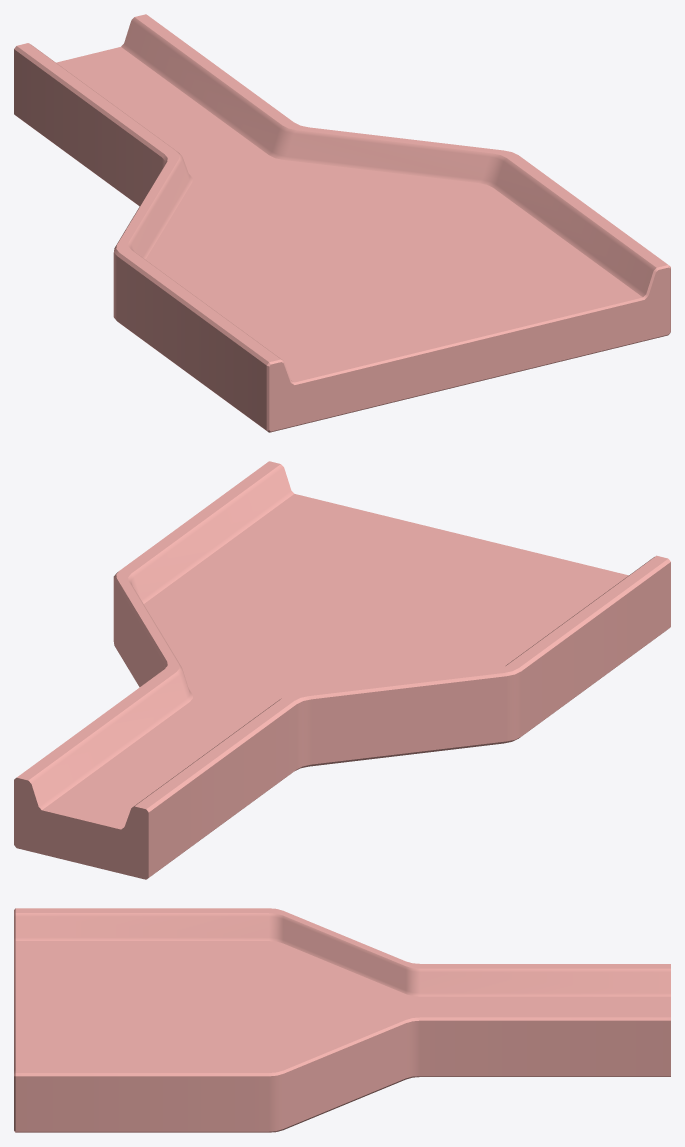
File: Ramp_WideToSmall.fbx
The picture shows the model from 3 angles, top to bottom: view 1: azimuth 30°, elevation 25°; view 2: azimuth 150°, elevation 25°; view 3: azimuth 270°, elevation 25°; orthographic projection. The views are drawn at different scales.
Parts seen in each view (by area): view 1: Ramp_StraighWideToSmall; view 2: Ramp_StraighWideToSmall; view 3: Ramp_StraighWideToSmall.
Boxes of the visible parts, box(x1,y1,x2,y2) form: Ramp_StraighWideToSmall: box(14, 14, 670, 432); Ramp_StraighWideToSmall: box(14, 461, 670, 879); Ramp_StraighWideToSmall: box(14, 908, 670, 1132).
Bounding box in the file's own units: 120 × 20 × 200.
